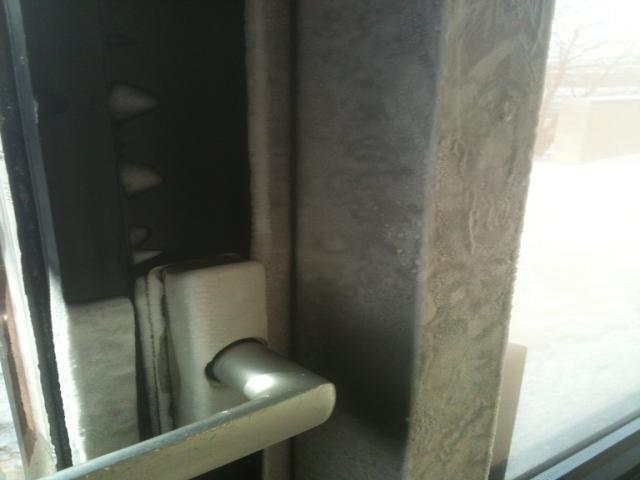Door-handle: (34, 251, 336, 480)
